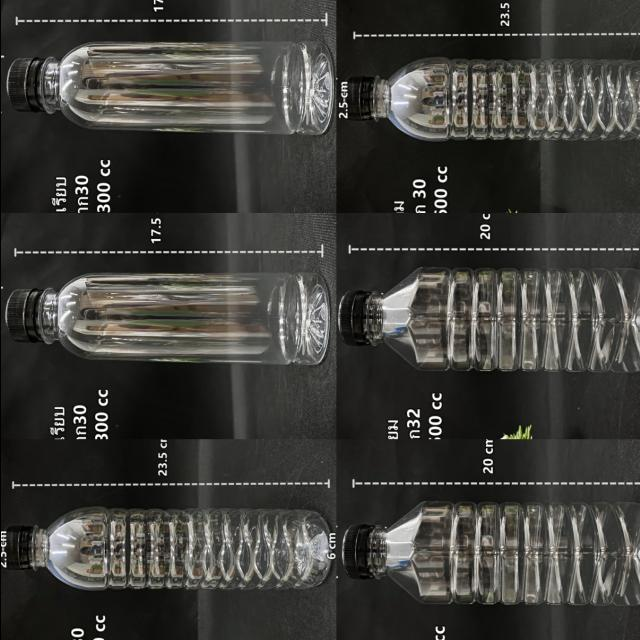plastik: (337, 268, 640, 372), (341, 501, 640, 606), (6, 41, 333, 134), (5, 273, 328, 365), (4, 506, 328, 590), (340, 57, 640, 141)
